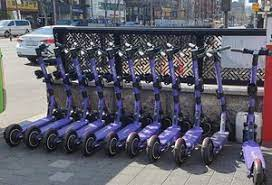kick_board: (231, 46, 272, 185)
kick_body: (244, 140, 260, 164)
kick_handler: (197, 44, 230, 59), (231, 47, 272, 58)
kick_neck: (38, 58, 54, 104), (215, 64, 227, 120), (90, 62, 105, 103), (129, 62, 141, 107), (110, 60, 122, 105), (249, 66, 257, 129), (150, 62, 160, 111), (169, 61, 178, 112), (193, 61, 201, 117)
kick_wheel: (5, 124, 22, 146), (24, 126, 40, 149), (146, 135, 160, 161), (125, 132, 139, 158), (104, 132, 118, 155), (82, 132, 95, 156), (202, 138, 214, 163), (173, 139, 185, 163), (252, 159, 263, 185), (45, 129, 58, 150), (65, 130, 77, 152)
